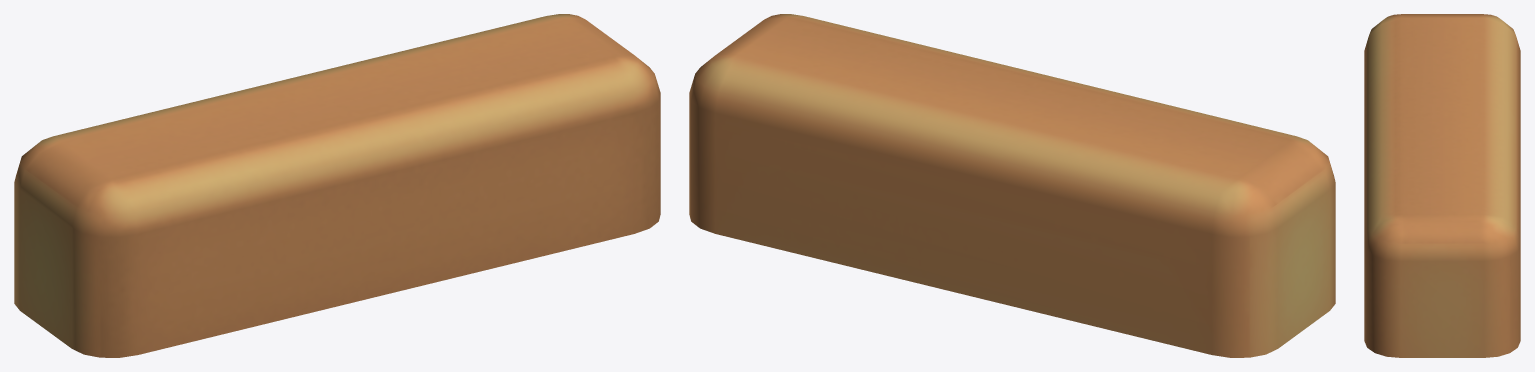
File: ChristmasRoom_PhotoBoothButton.fbx
The picture shows the model from 3 angles, left to right: view 1: azimuth 30°, elevation 25°; view 2: azimuth 150°, elevation 25°; view 3: azimuth 270°, elevation 25°; orthographic projection. The views are drawn at different scales.
Visible parts, largest first — view 1: ChristmasRoom_PhotoBoothButton; view 2: ChristmasRoom_PhotoBoothButton; view 3: ChristmasRoom_PhotoBoothButton.
Part boxes in pixels (left/top/right/bottom): ChristmasRoom_PhotoBoothButton: left=14, top=14, right=660, bottom=357; ChristmasRoom_PhotoBoothButton: left=689, top=14, right=1335, bottom=357; ChristmasRoom_PhotoBoothButton: left=1364, top=14, right=1520, bottom=357.
Size of the model in its own units: 17.13 by 4.49 by 4.97.
